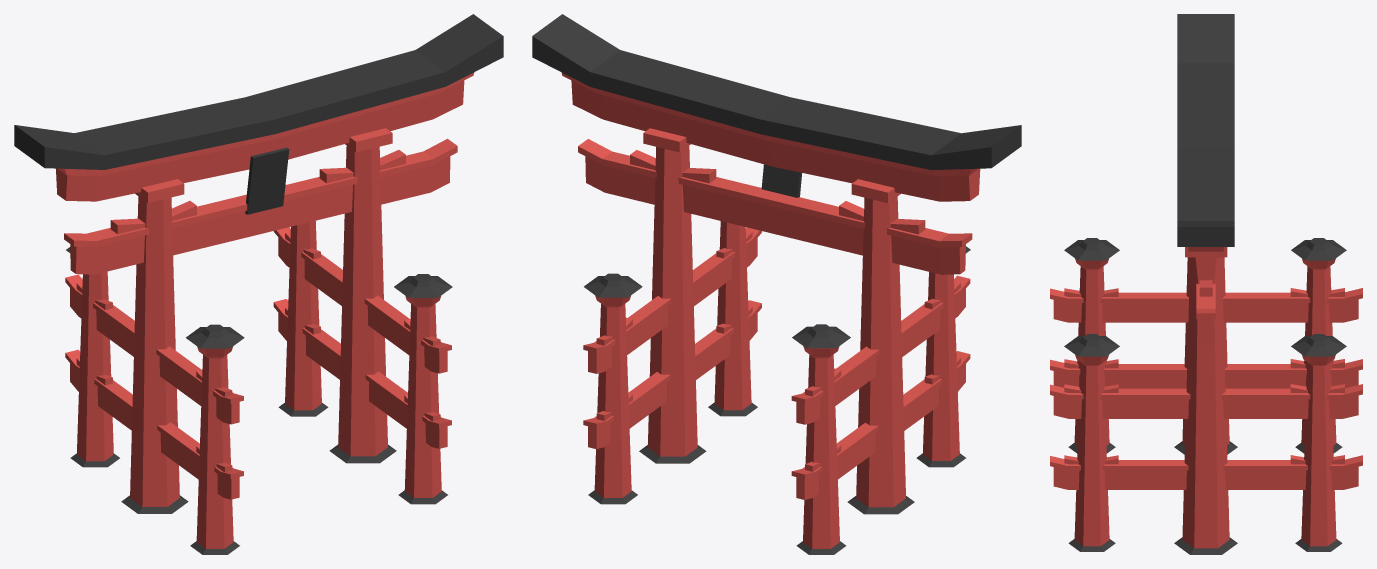
Rendered from Torii.fbx.
3 renders of one model, left to right at view 1: azimuth 30°, elevation 25°; view 2: azimuth 150°, elevation 25°; view 3: azimuth 270°, elevation 25°, orthographic. The views are drawn at different scales.
Parts seen in each view (by area): view 1: OWnG_largeGate(RyobuTorii)_01; view 2: OWnG_largeGate(RyobuTorii)_01; view 3: OWnG_largeGate(RyobuTorii)_01.
Boxes of the visible parts, left/top/right/bottom form: OWnG_largeGate(RyobuTorii)_01: left=14, top=14, right=503, bottom=554; OWnG_largeGate(RyobuTorii)_01: left=532, top=14, right=1021, bottom=554; OWnG_largeGate(RyobuTorii)_01: left=1050, top=14, right=1362, bottom=554.
Bounding box in the file's own units: 1568 × 1294 × 978.
